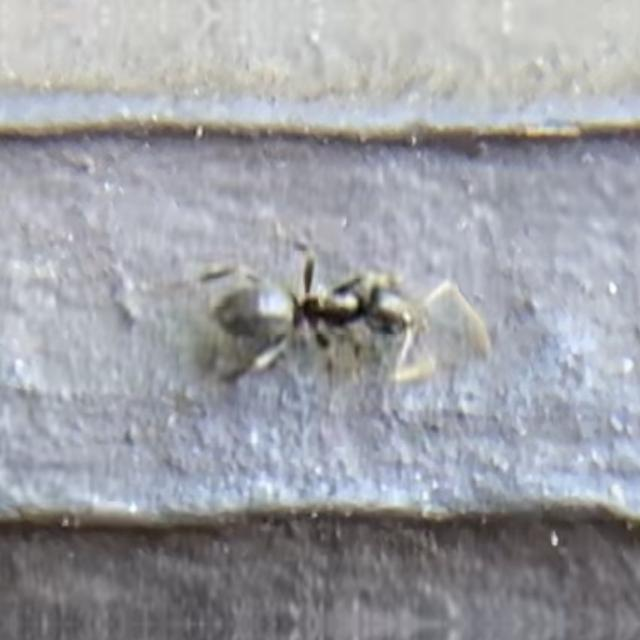Tapinoma: (176, 230, 450, 392)
